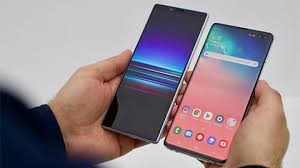sony: (99, 1, 209, 144)
